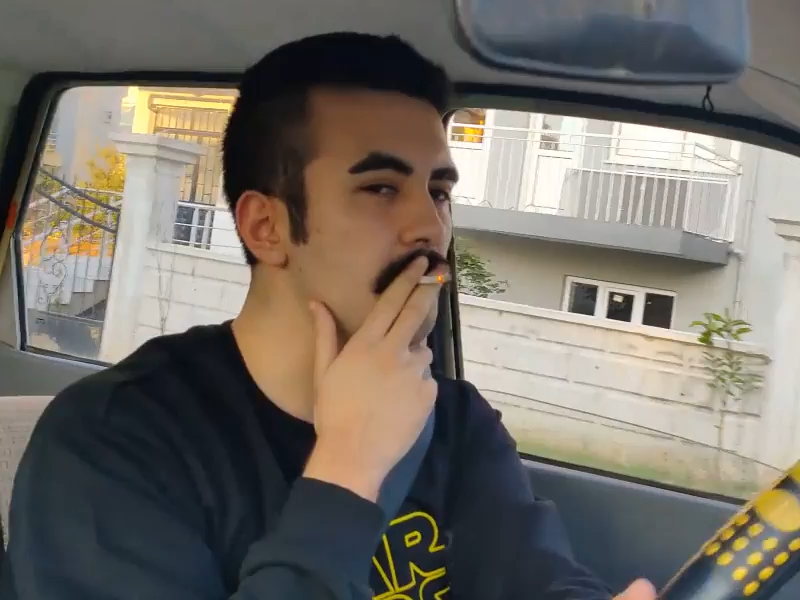sigara: (411, 267, 460, 289)
